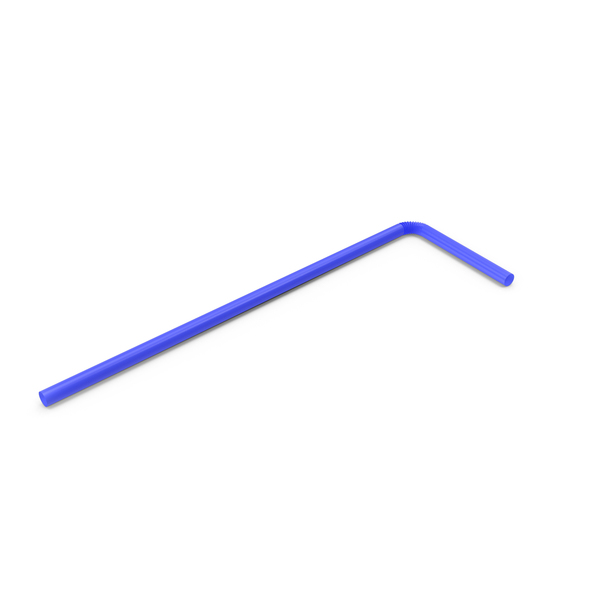Drinking Straw: (36, 215, 517, 412)
